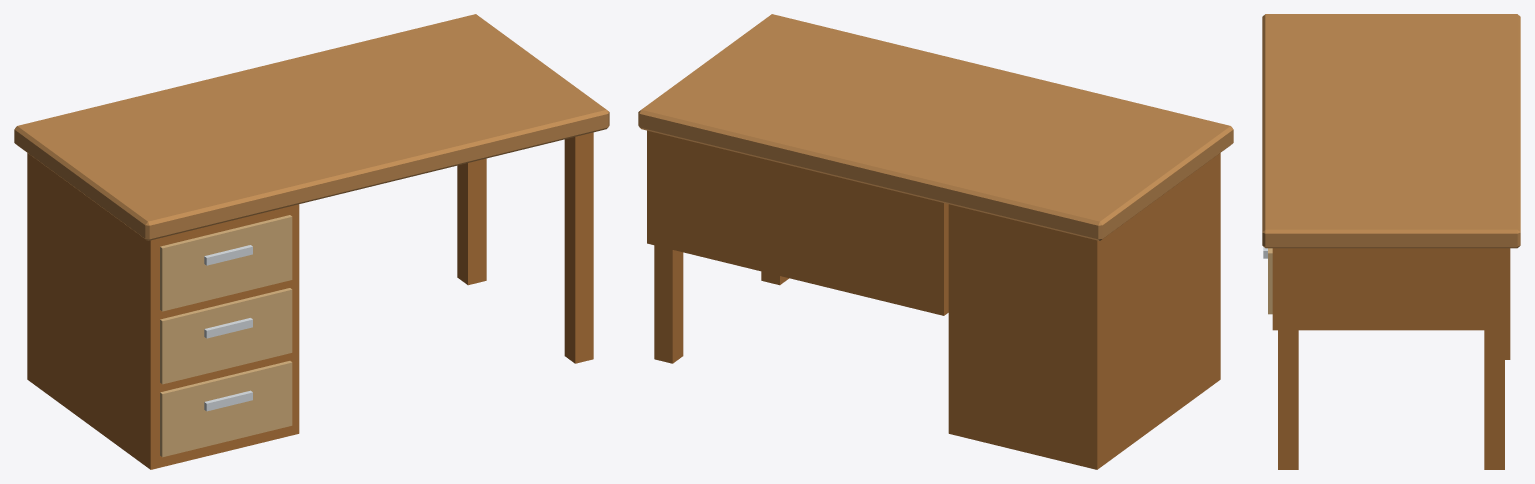
Rendered from FUR_Desk.fbx.
3 renders of one model, left to right at view 1: azimuth 30°, elevation 25°; view 2: azimuth 150°, elevation 25°; view 3: azimuth 270°, elevation 25°, orthographic. The views are drawn at different scales.
Visible parts, largest first — view 1: FUR_Desk; view 2: FUR_Desk; view 3: FUR_Desk.
Boxes of the visible parts, x1,y1,x2,y2 form: FUR_Desk: [14, 14, 609, 469]; FUR_Desk: [638, 14, 1233, 469]; FUR_Desk: [1262, 14, 1520, 469].
Size of the model in its own units: 5 by 2.6 by 2.5.
